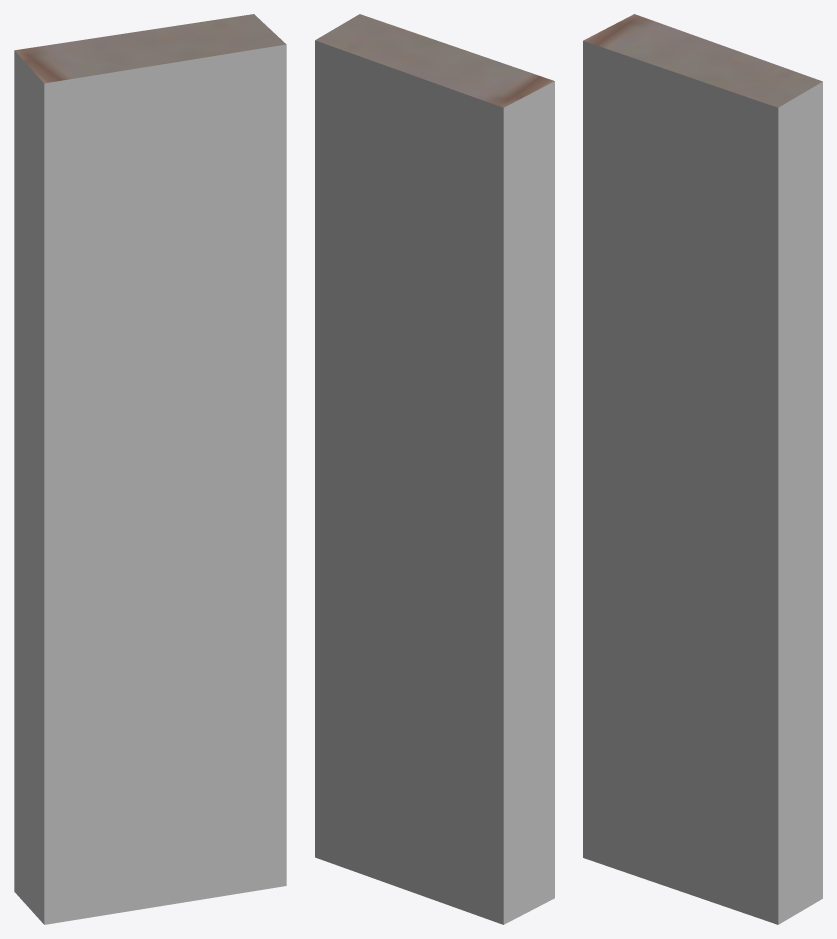
The model's file is DEBW_0010007THY3.gltf.
The picture shows the model from 3 angles, left to right: view 1: azimuth 30°, elevation 25°; view 2: azimuth 150°, elevation 25°; view 3: azimuth 330°, elevation 25°; orthographic projection. The views are drawn at different scales.
Visible parts, largest first — view 1: Z_UP; view 2: Z_UP; view 3: Z_UP.
Part boxes in pixels (x1,y1,x2,y2): Z_UP: (14,14,286,924); Z_UP: (315,14,554,924); Z_UP: (583,14,822,924).
Bounding box in the file's own units: 4.36 × 15.35 × 2.05.
Materials: 2 (1 with a texture image).
